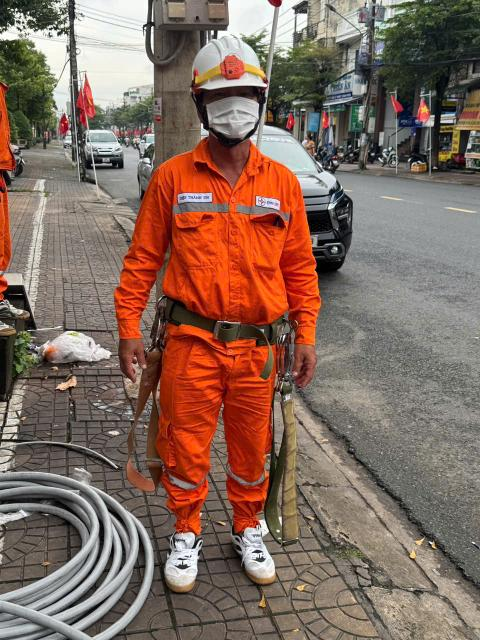harness: (144, 282, 303, 371)
helmet: (167, 32, 291, 108)
shoes: (153, 511, 214, 602), (226, 510, 282, 588)
